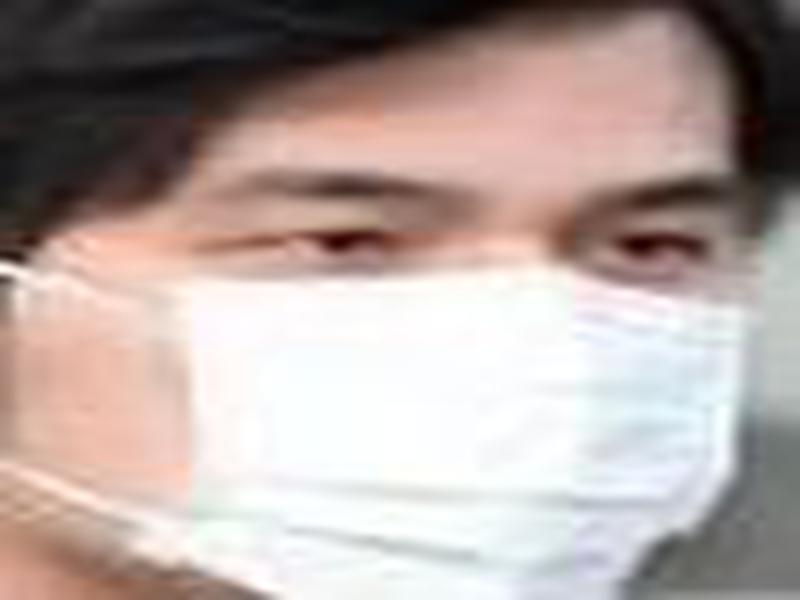with_mask: (1, 2, 762, 600)
